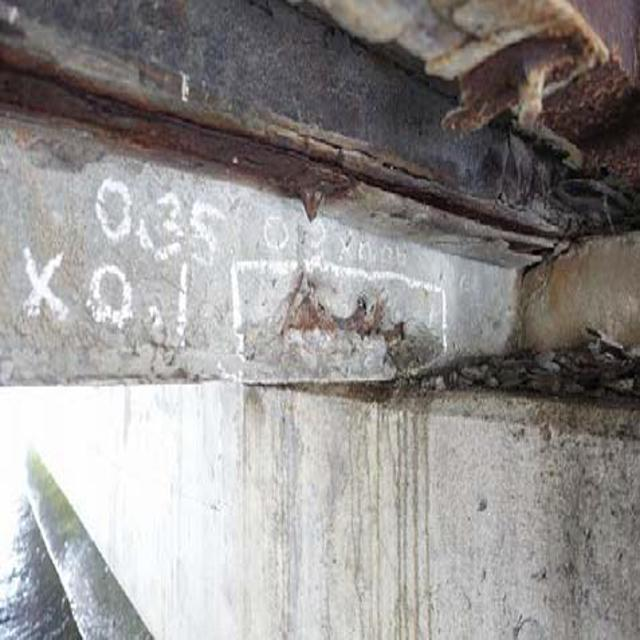corrosion: (16, 43, 417, 218), (460, 10, 633, 173)
spalling: (200, 270, 436, 383)
